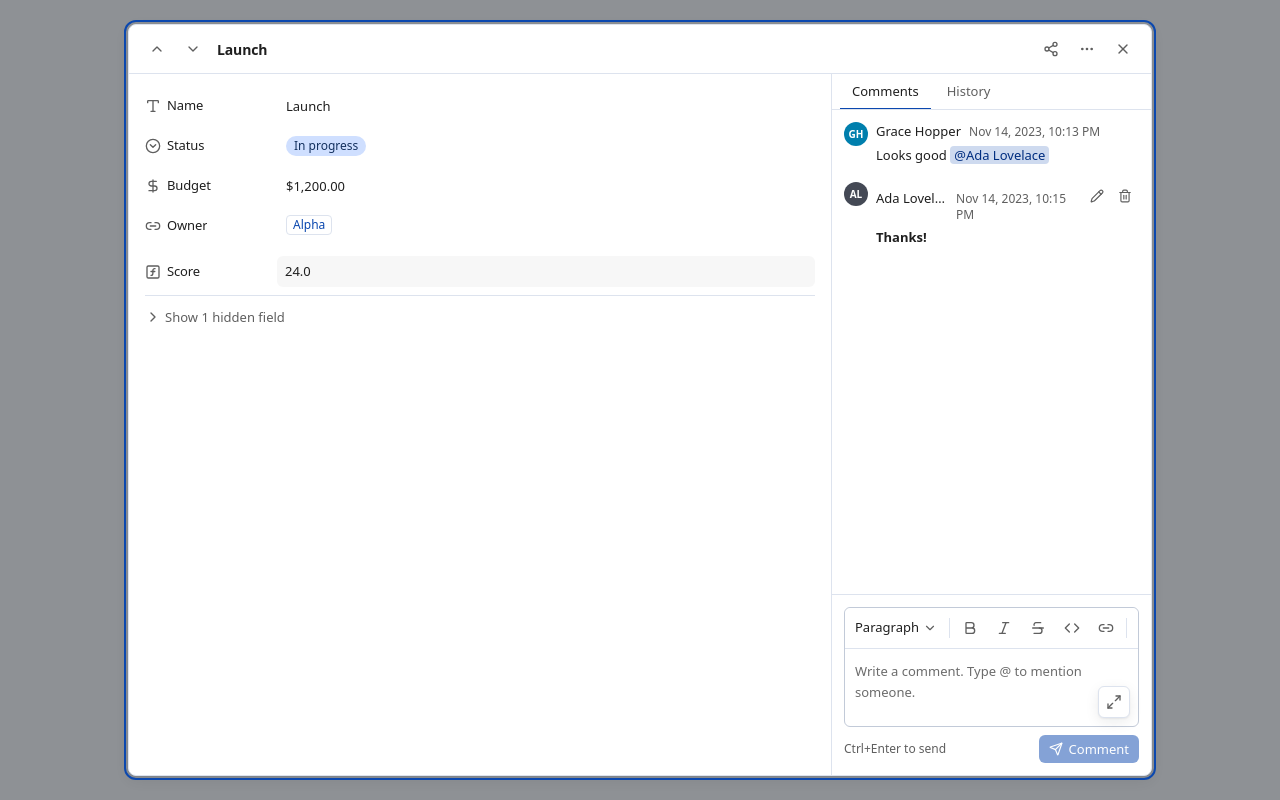
Test: ExpandedRecord › shows every field with its value, computed ones read-only, hidden ones collapsed
Expected: the text "Launch" is shown, [286, 97, 330, 115]
Expected: the heading "Launch" is shown, [217, 40, 267, 58]
What coordinates should you click on to do the following:
click the button "Show 1 hidden field"
I would click on:
 (215, 317)
Its box is [145, 308, 285, 327].
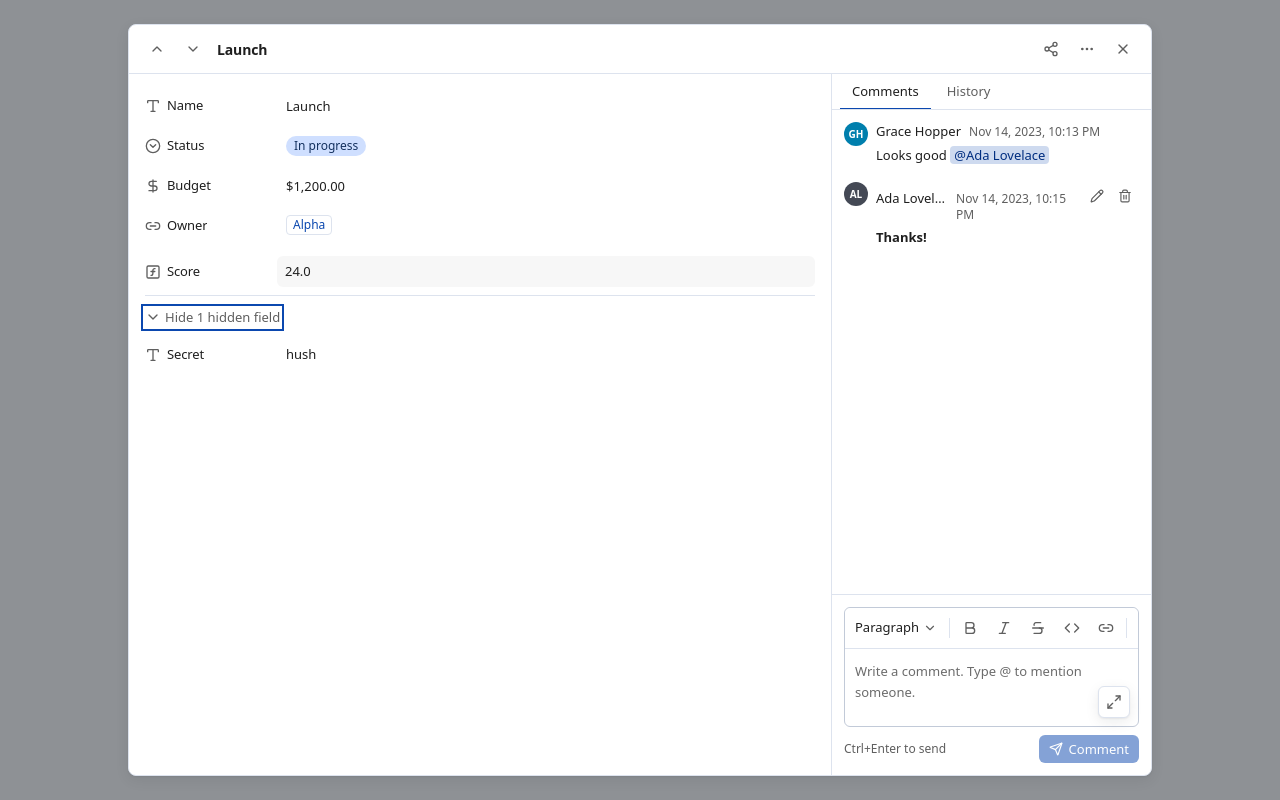
Expected: the text "hush" is shown, [286, 345, 316, 363]
